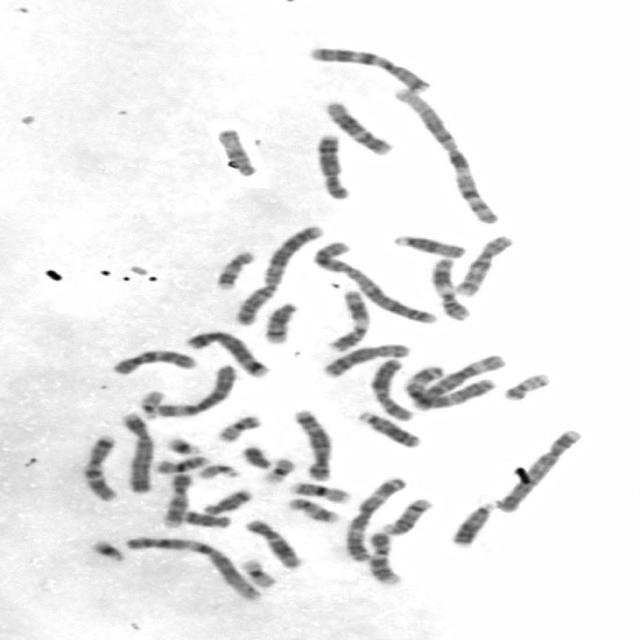A1: (390, 84, 502, 226), (120, 533, 265, 601)
A2: (309, 239, 438, 325), (230, 222, 324, 326)
A3: (340, 475, 408, 563), (401, 356, 506, 410)
B4: (492, 427, 585, 513), (115, 409, 155, 494)
B5: (180, 327, 272, 380), (289, 407, 335, 482)
C10: (450, 232, 515, 297), (108, 346, 198, 376)
C11: (322, 287, 372, 354), (427, 254, 472, 322)
C12: (319, 98, 394, 157), (241, 517, 303, 569)
C6: (406, 351, 508, 411), (152, 362, 236, 419)
C7: (304, 44, 434, 94), (78, 432, 121, 502)
C8: (318, 340, 412, 379), (311, 131, 352, 201)
C9: (157, 470, 195, 530), (365, 529, 403, 587)
D13: (353, 409, 423, 449), (446, 499, 496, 547)
D14: (378, 495, 433, 536), (258, 300, 300, 344)
D15: (211, 125, 260, 179), (390, 232, 468, 258)
E16: (287, 480, 352, 504), (152, 453, 212, 475)
E17: (212, 249, 257, 291), (284, 495, 342, 524)
E18: (199, 486, 254, 516), (180, 508, 233, 528)
F19: (236, 556, 278, 589), (259, 456, 296, 485)
F20: (212, 413, 265, 443), (500, 371, 553, 401)
G21: (86, 536, 126, 562), (161, 434, 203, 456)
G22: (136, 388, 167, 420), (194, 462, 242, 481)
X: (366, 356, 415, 422)
Y: (239, 444, 273, 469)
